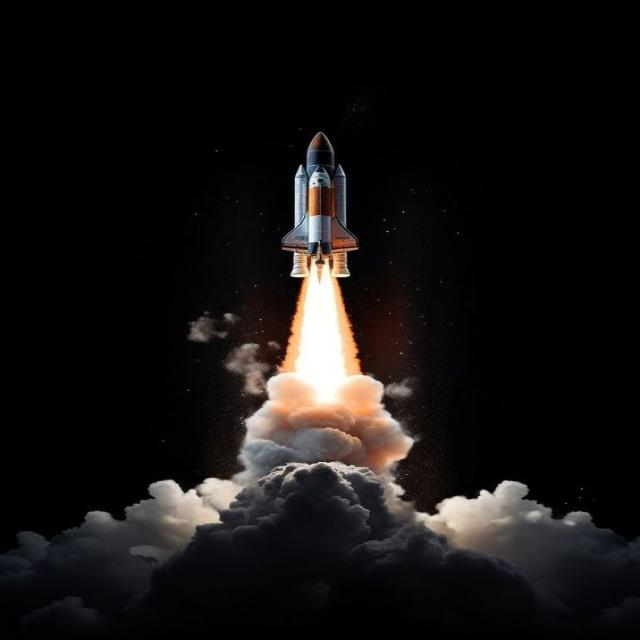medium_debris: (282, 260, 359, 388)
rocket: (284, 161, 362, 261)
